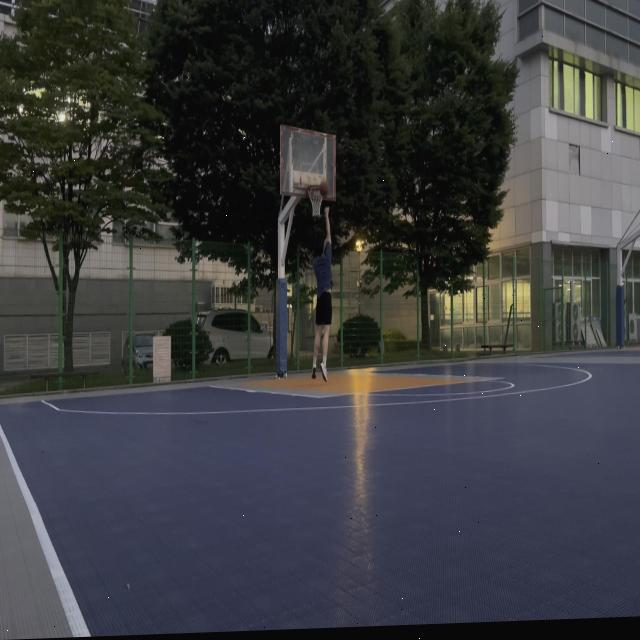basketball: (319, 180, 329, 199)
hoop: (307, 184, 323, 218)
